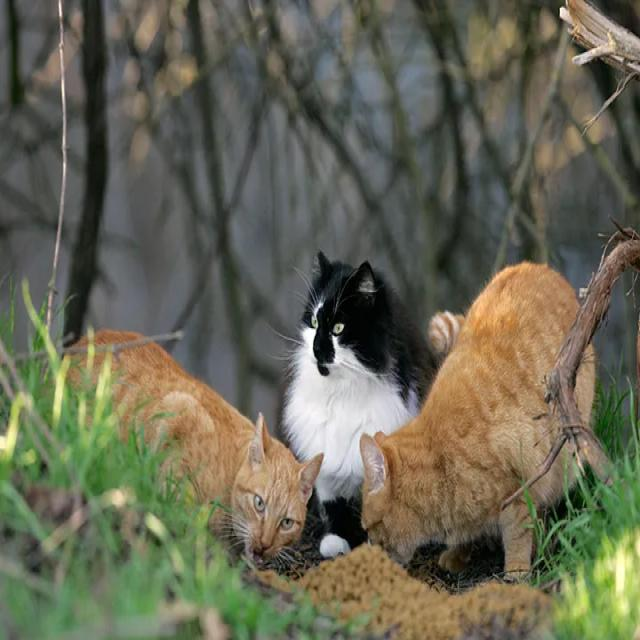cat: (360, 262, 579, 576), (70, 332, 322, 562), (282, 251, 438, 558)
